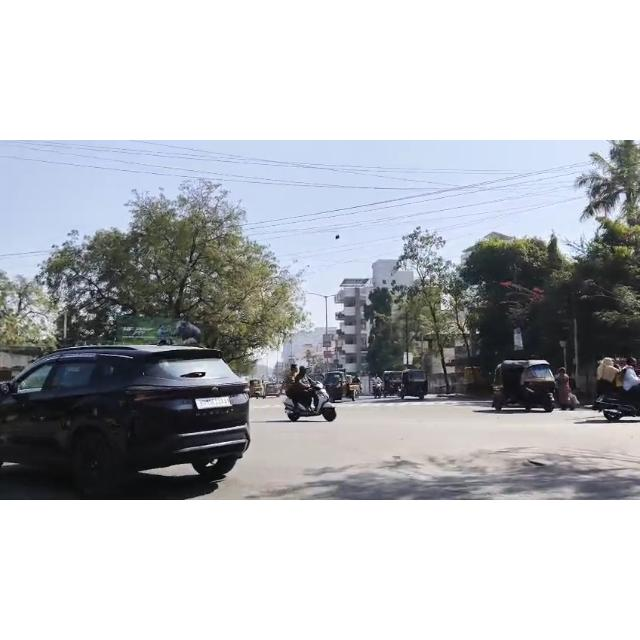auto: (489, 357, 559, 415), (401, 368, 431, 401), (382, 367, 403, 399), (248, 378, 265, 399)
car: (0, 324, 282, 498), (265, 381, 283, 401)
